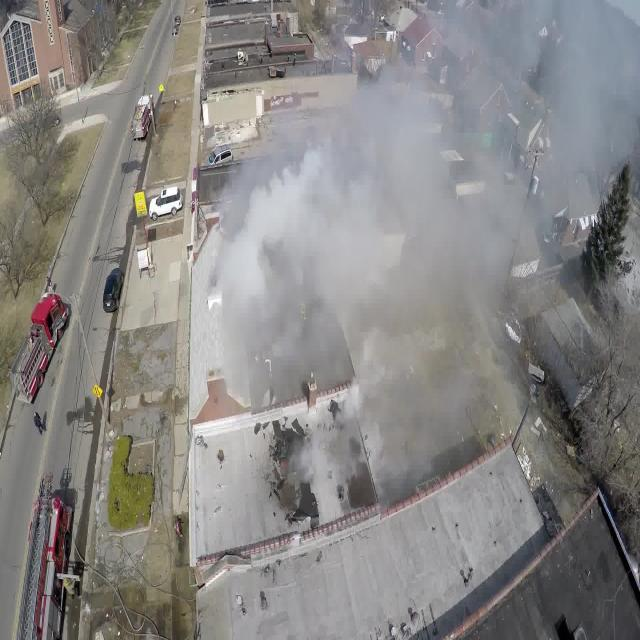Smoke: (229, 2, 640, 390)
